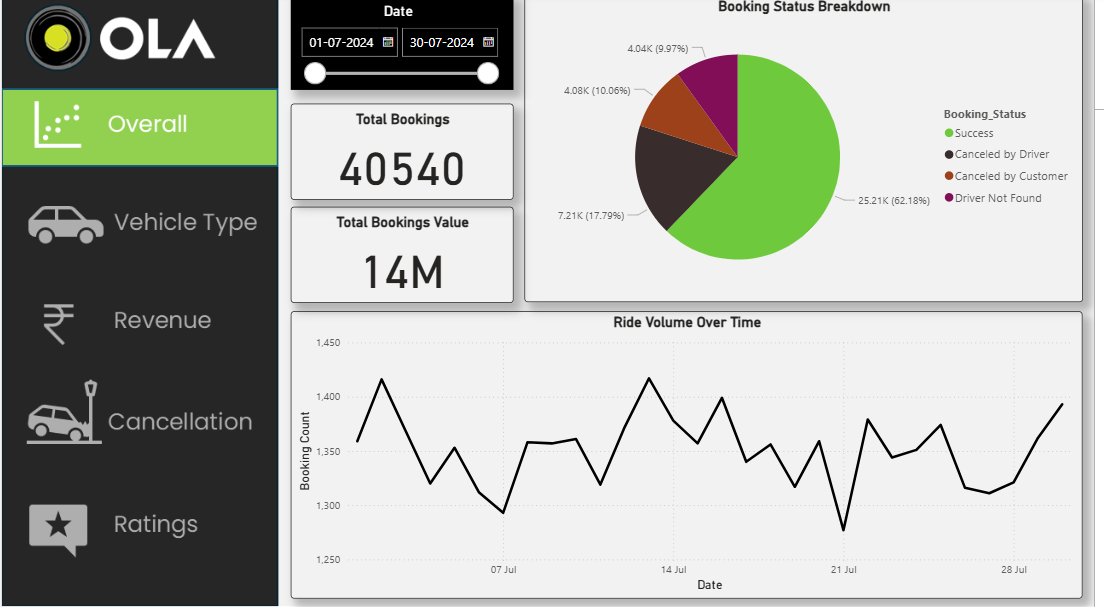

The dashboard page shown, as its layout file describes it:
{"tool":"powerbi","page":{"name":"Overall","canvas":[1280,720],"ordinal":0},"visuals":[{"type":"actionButton","box":[0,111.4,324.6,90.8],"z":0},{"type":"actionButton","box":[0,447,324.6,90.8],"z":1000},{"type":"actionButton","box":[0,335.6,324.6,90.8],"z":2000},{"type":"actionButton","box":[0,221.4,324.6,90.8],"z":3000},{"type":"actionButton","box":[0,577.6,324.6,90.8],"z":4000},{"type":"lineChart","title":"Ride Volume Over Time","fields":{"Y":["CountNonNull(July.Booking_ID)"],"Category":["July.Date"]},"box":[338.3,371.3,928.3,336.9],"z":5000},{"type":"pieChart","title":"Booking Status Breakdown","fields":{"Category":["July.Booking_Status"],"Y":["CountNonNull(July.Booking_Status)"]},"box":[612,0,654.6,360.3],"z":6000},{"type":"slicer","title":"Date","fields":{"Values":["July.Date"]},"box":[338.3,0,261.3,111.4],"z":7000},{"type":"card","title":"Total Bookings","fields":{"Values":["Count(July.Booking_ID)"]},"box":[338.3,126.5,261.3,112.8],"z":8000},{"type":"card","title":"Total Bookings Value","fields":{"Values":["Sum(July.Booking_Value)"]},"box":[338.3,247.5,261.3,112.8],"z":9000}]}

Visuals, with their boxes in screenshot pixels (x1, y1, x2, y2), scaled from the page's 1280x720 canvas onto the 1104x607 screenshot:
actionButton: [x1=0, y1=94, x2=280, y2=170]
actionButton: [x1=0, y1=377, x2=280, y2=453]
actionButton: [x1=0, y1=283, x2=280, y2=359]
actionButton: [x1=0, y1=187, x2=280, y2=263]
actionButton: [x1=0, y1=487, x2=280, y2=563]
"Ride Volume Over Time" lineChart: [x1=292, y1=313, x2=1092, y2=597]
"Booking Status Breakdown" pieChart: [x1=528, y1=0, x2=1092, y2=304]
"Date" slicer: [x1=292, y1=0, x2=517, y2=94]
"Total Bookings" card: [x1=292, y1=107, x2=517, y2=202]
"Total Bookings Value" card: [x1=292, y1=209, x2=517, y2=304]
